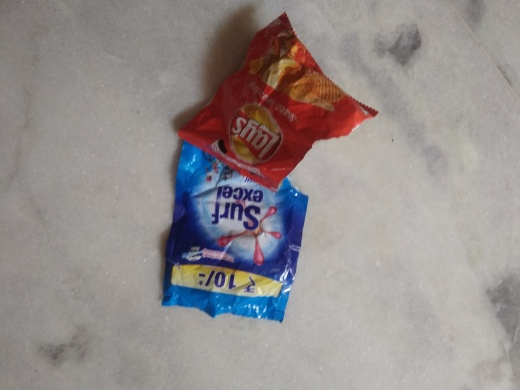lays: (177, 9, 391, 190)
surf: (168, 140, 309, 326)
